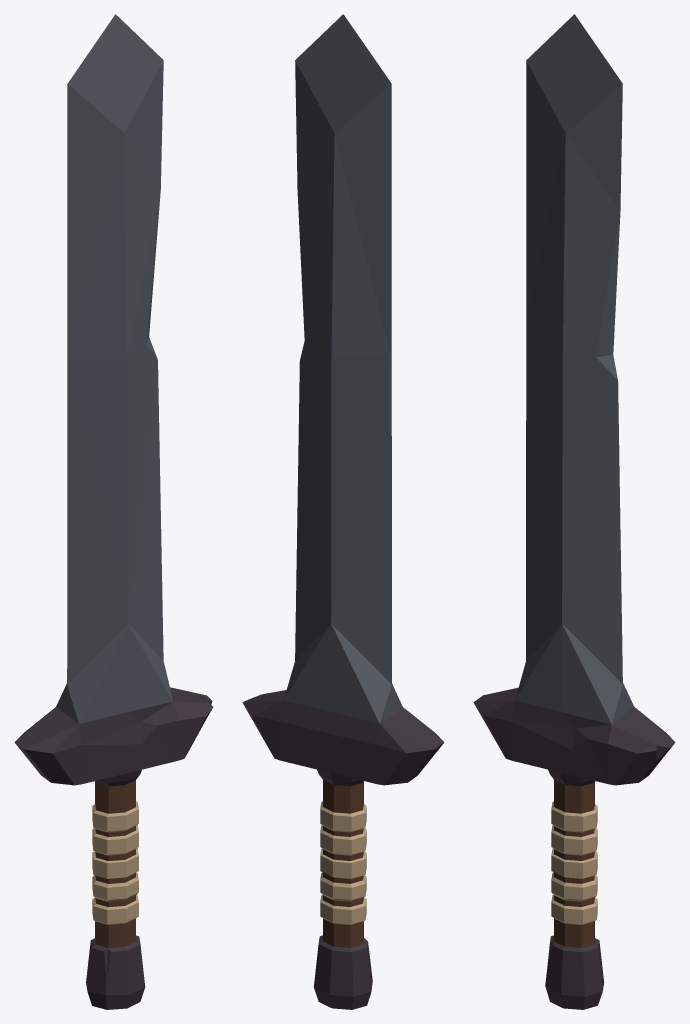
Rendered from Sword.fbx.
3 views of the same model, side by side, from view 1: azimuth 30°, elevation 25°; view 2: azimuth 150°, elevation 25°; view 3: azimuth 330°, elevation 25° (orthographic).
Visible parts, largest first — view 1: Sword; view 2: Sword; view 3: Sword.
Part boxes in pixels (x1,y1,x2,y2): Sword: (14, 14, 213, 1009); Sword: (242, 14, 444, 1009); Sword: (473, 14, 675, 1009).
Size of the model in its own units: 0.2535 by 1.24 by 0.0673.
